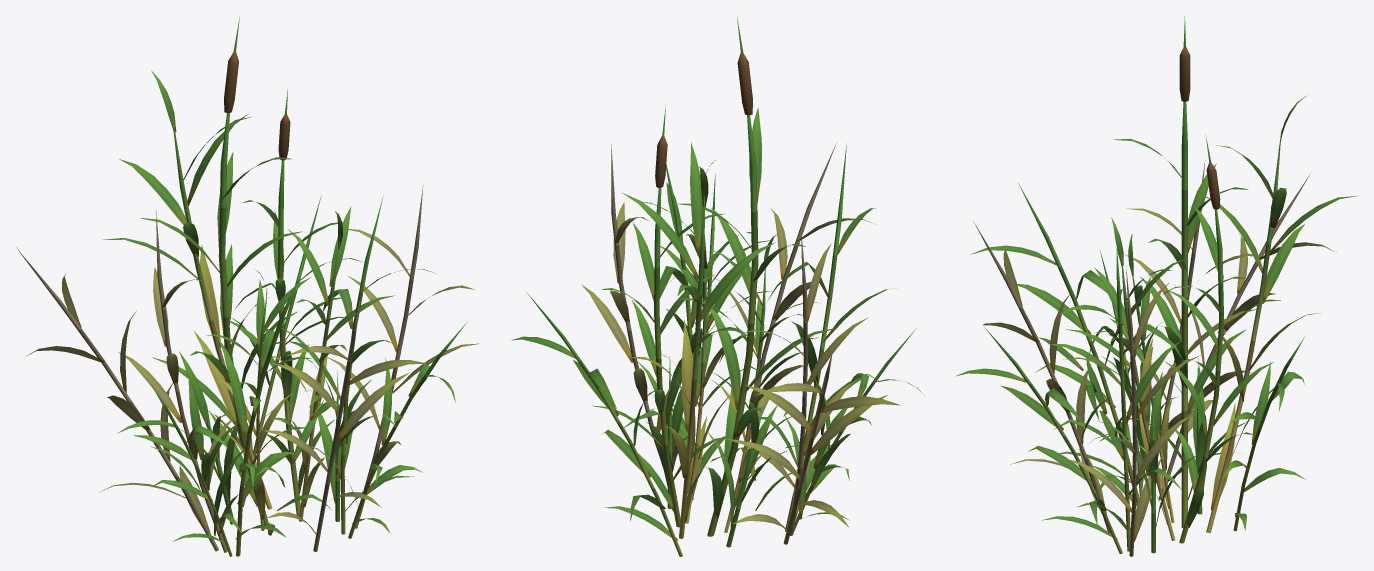
Rendered from reed_group.fbx.
3 views of the same model, side by side, from view 1: azimuth 30°, elevation 25°; view 2: azimuth 150°, elevation 25°; view 3: azimuth 270°, elevation 25° (orthographic). The views are drawn at different scales.
Parts seen in each view (by area): view 1: reed_group; view 2: reed_group; view 3: reed_group.
Part boxes in pixels (x1=…): reed_group: x1=16, y1=16, x2=479, y2=556; reed_group: x1=510, y1=17, x2=924, y2=556; reed_group: x1=955, y1=16, x2=1356, y2=556.
Size of the model in its own units: 110 by 141 by 103.
